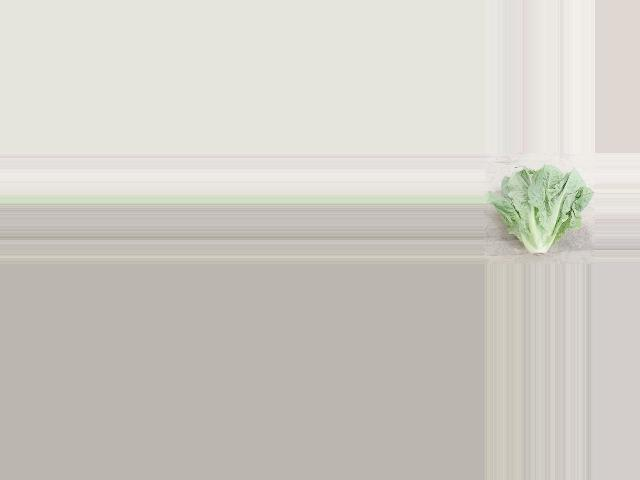lettuce: (487, 162, 590, 260)
